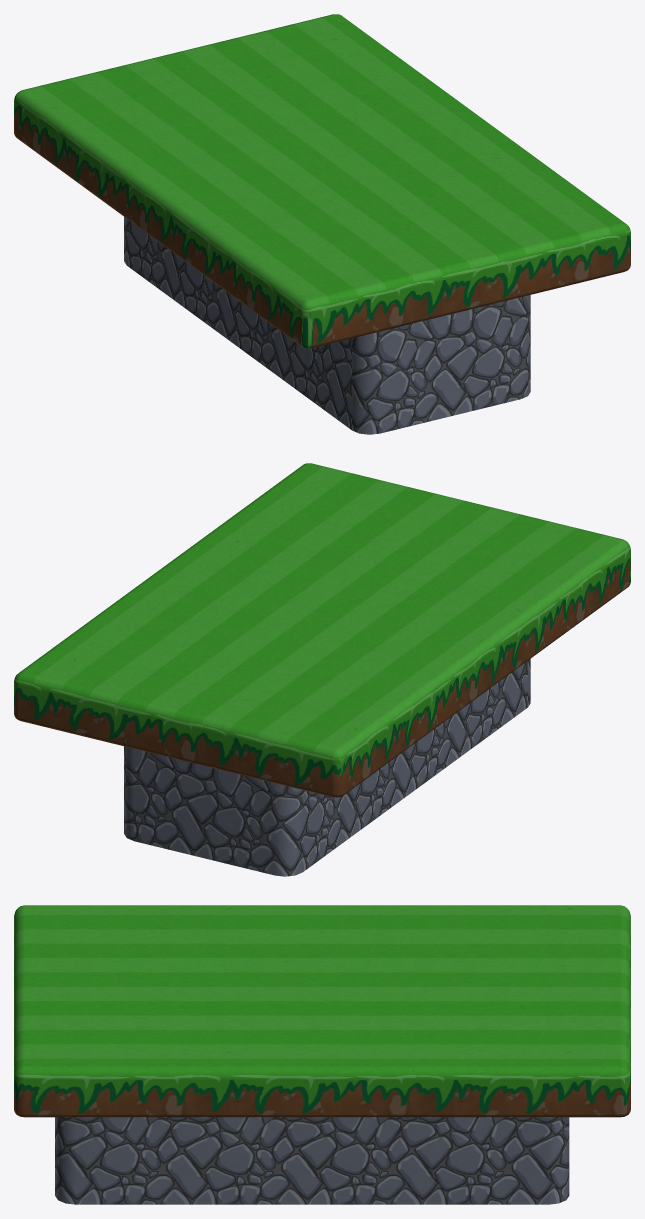
File: Platform_3.fbx
3 views of the same model, one above another, from view 1: azimuth 30°, elevation 25°; view 2: azimuth 150°, elevation 25°; view 3: azimuth 270°, elevation 25° (orthographic). The views are drawn at different scales.
Visible parts, largest first — view 1: polySurface11; view 2: polySurface11; view 3: polySurface11.
Boxes of the visible parts, x1,y1,x2,y2 form: polySurface11: (14,14,630,434); polySurface11: (14,463,630,876); polySurface11: (14,905,630,1204).
Size of the model in its own units: 19.39 by 9.33 by 30.
4 materials, 4 textured.
